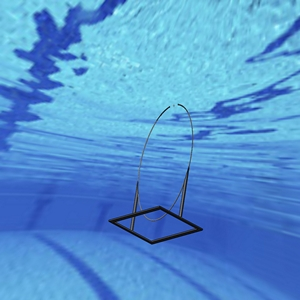circle: (107, 101, 204, 244)
